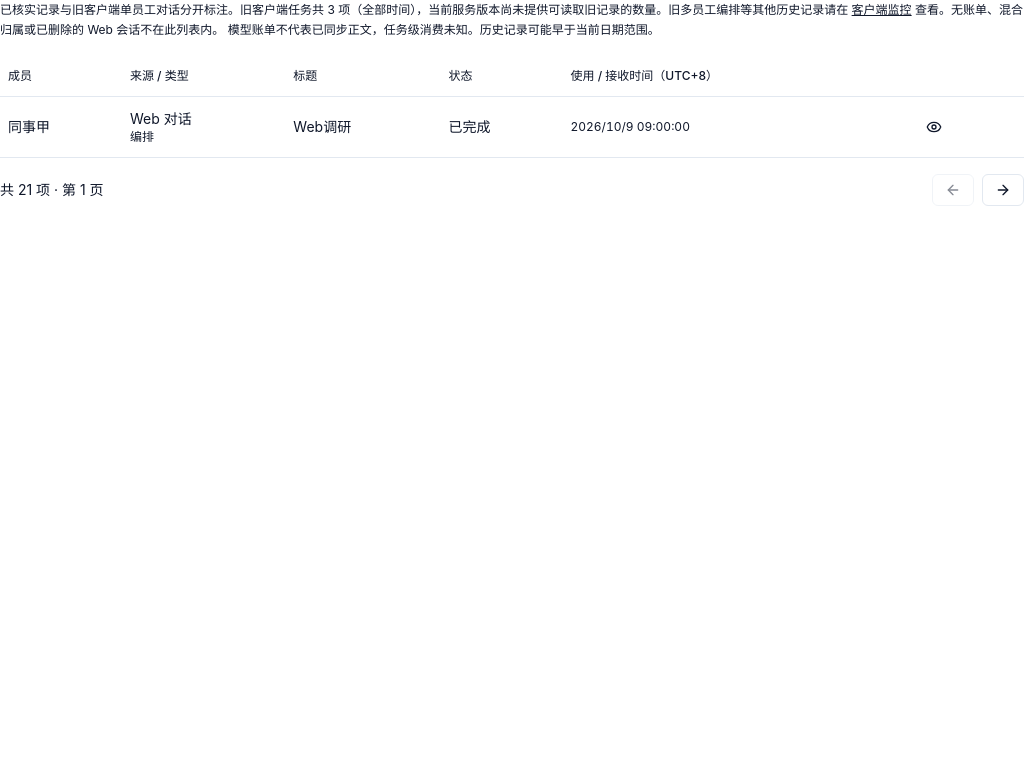
Scenario: EmployeeUsageRecords › Web消息保持输入输出顺序，工具正文默认折叠，文本不执行HTML
Click the button named "查看 Web调研": (934, 127) x1=914 y1=111 x2=954 y2=143
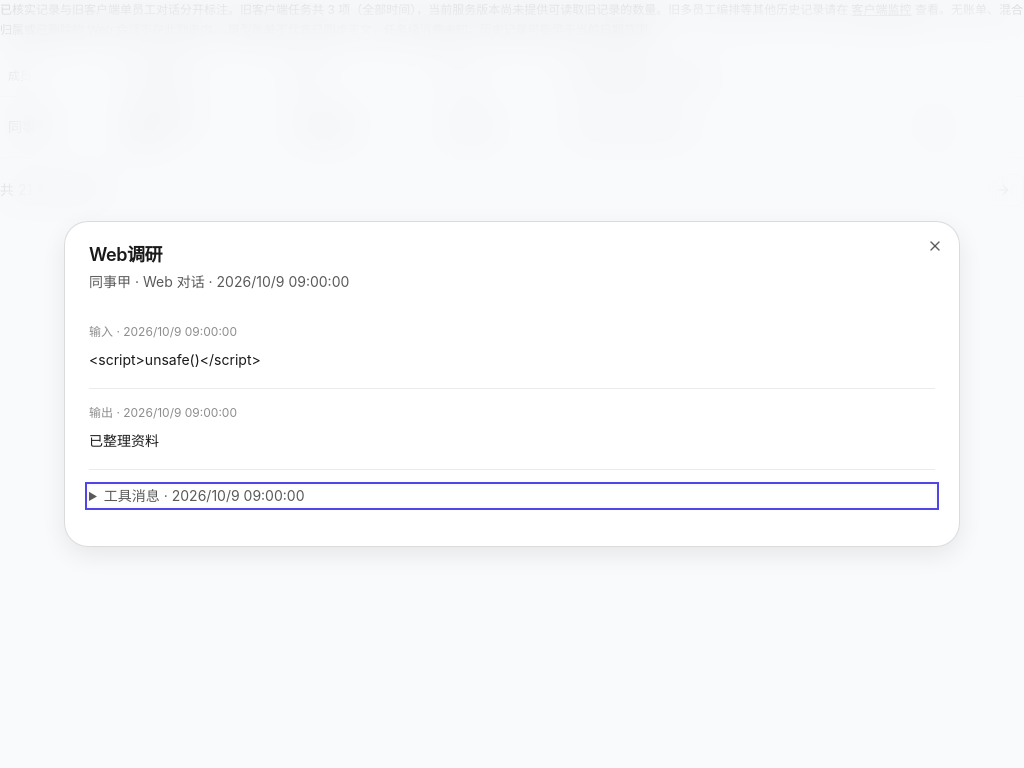
Now the text "已整理资料" is shown, box x1=89 y1=432 x2=159 y2=449
